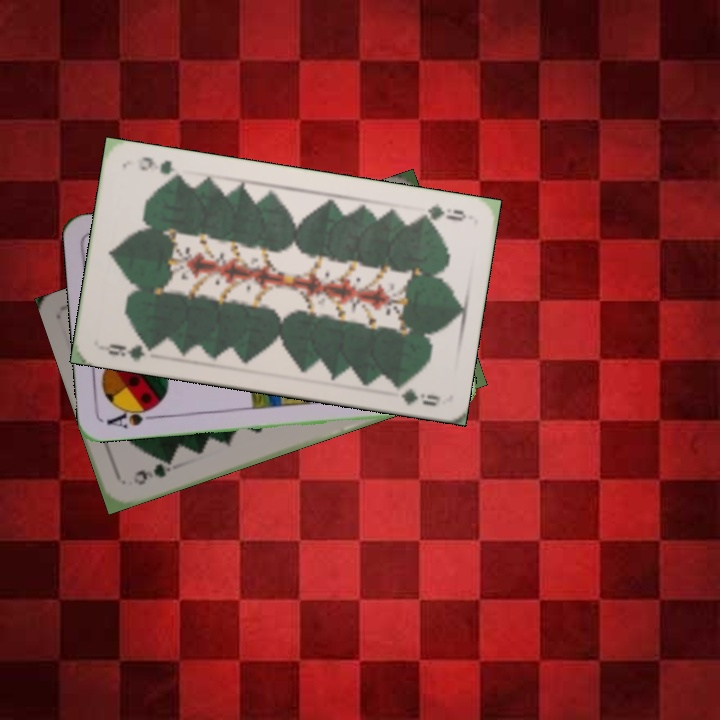G9: (97, 338, 158, 364), (129, 455, 176, 488), (414, 199, 469, 224)
SA: (102, 402, 161, 431)
